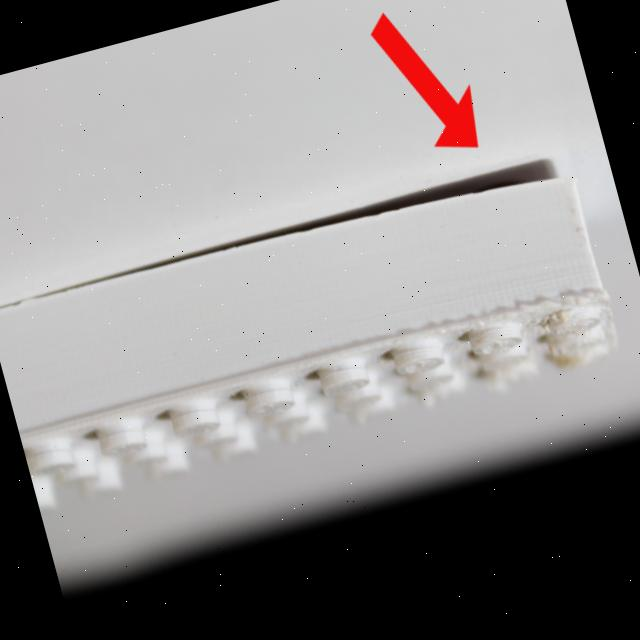cracks: (262, 148, 582, 249)
